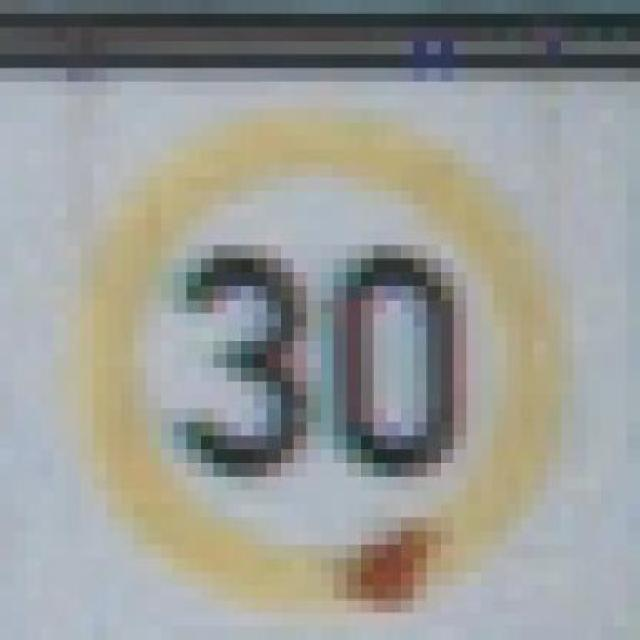Speed Limit 30 KMPh: (27, 96, 587, 626)
